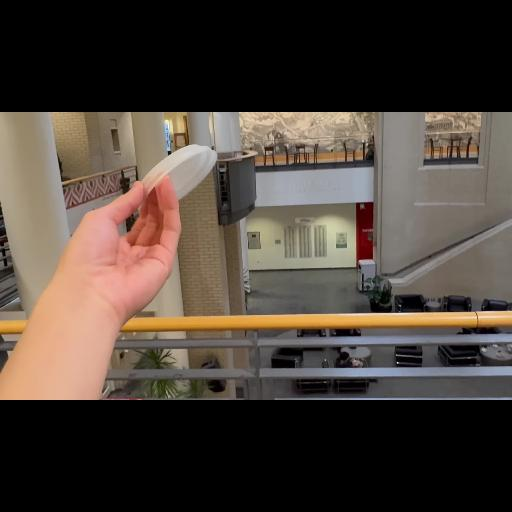lp_cup_lids: (129, 142, 223, 214)
